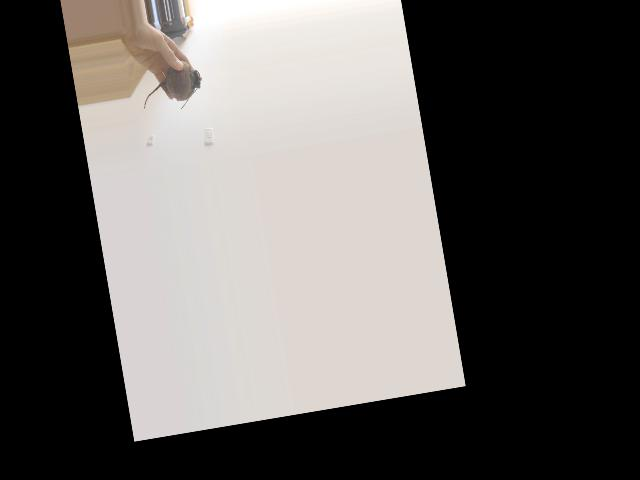beet: (137, 57, 206, 115)
